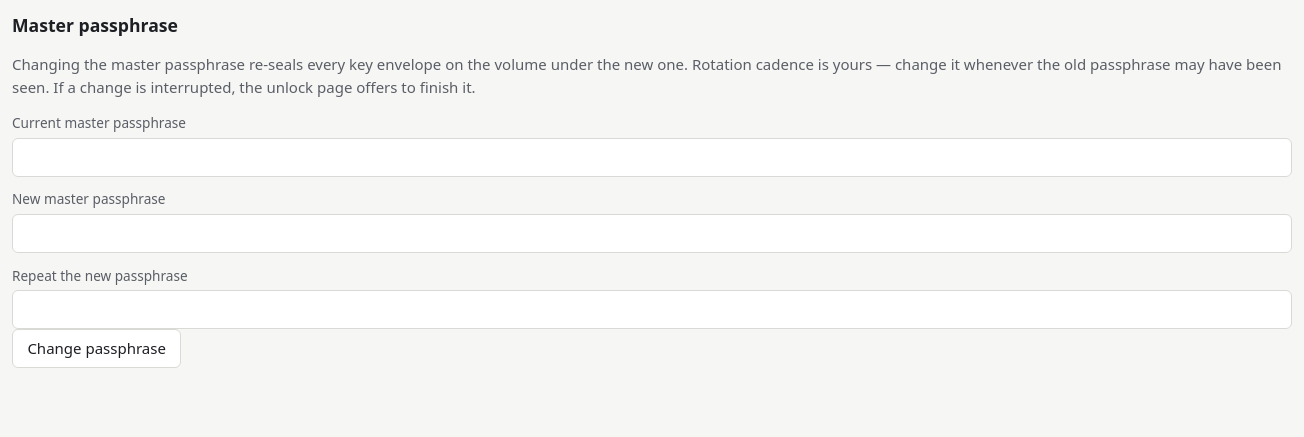
Scenario: MasterPassphrase › refuses a mismatched repeat before any request leaves
In the password field labelled "Current master passphrase": coordinates (652, 157) [12,138,1292,177], type "the-current"
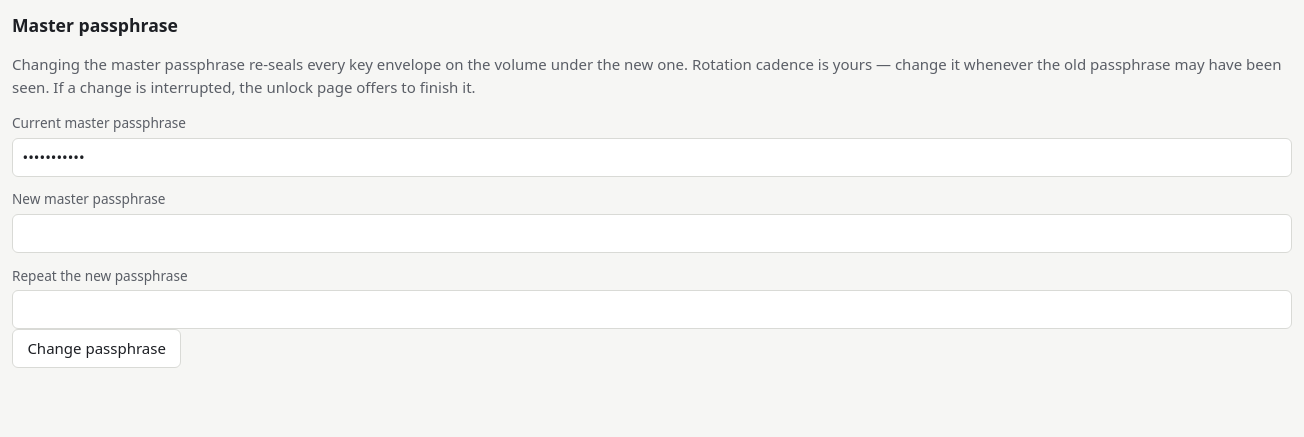
In the password field labelled "New master passphrase": coordinates (652, 233) [12,214,1292,253], type "the-next"
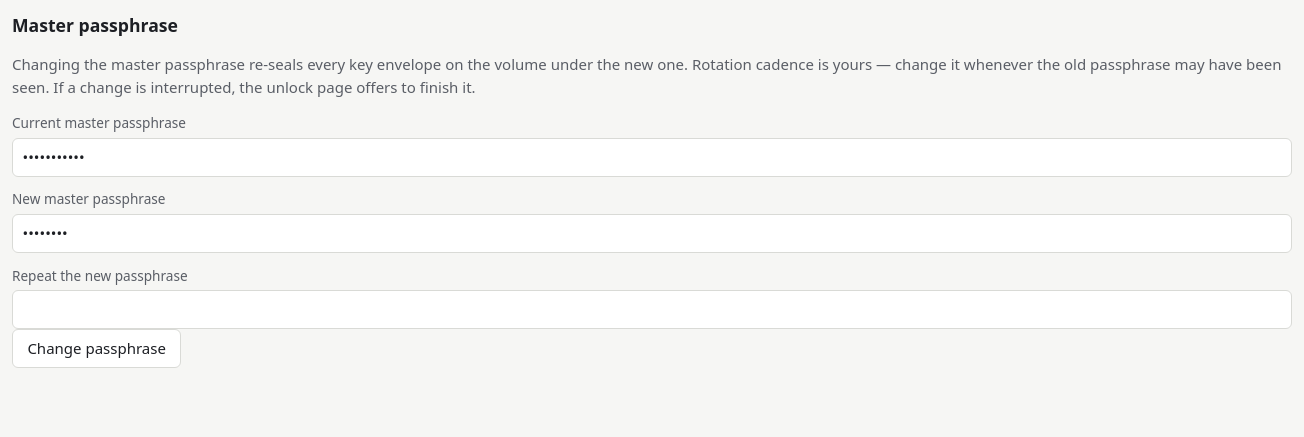
In the password field labelled "Repeat the new passphrase": coordinates (652, 309) [12,290,1292,329], type "a-different-repeat"
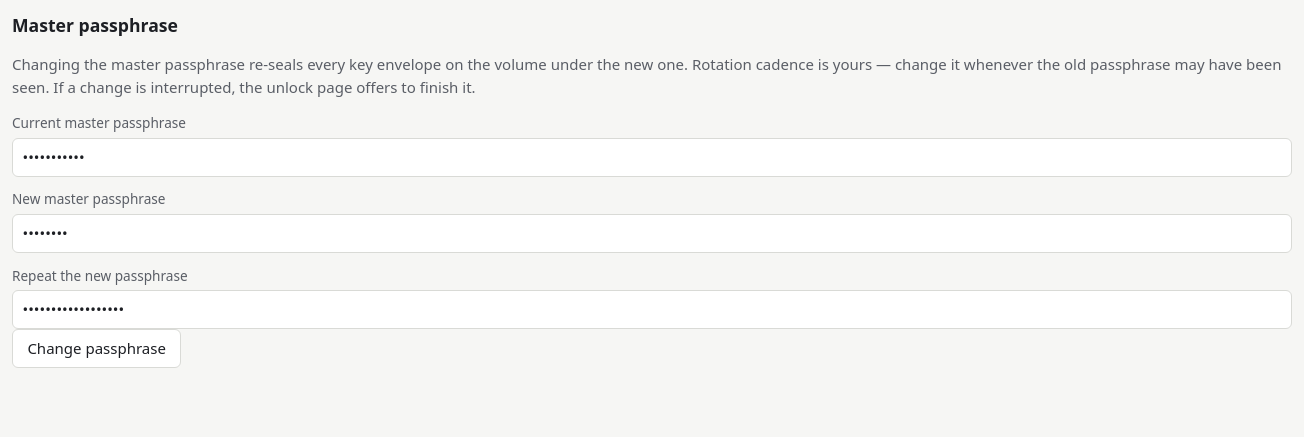
Click the button "Change passphrase": coordinates (97, 348) [12,329,181,368]
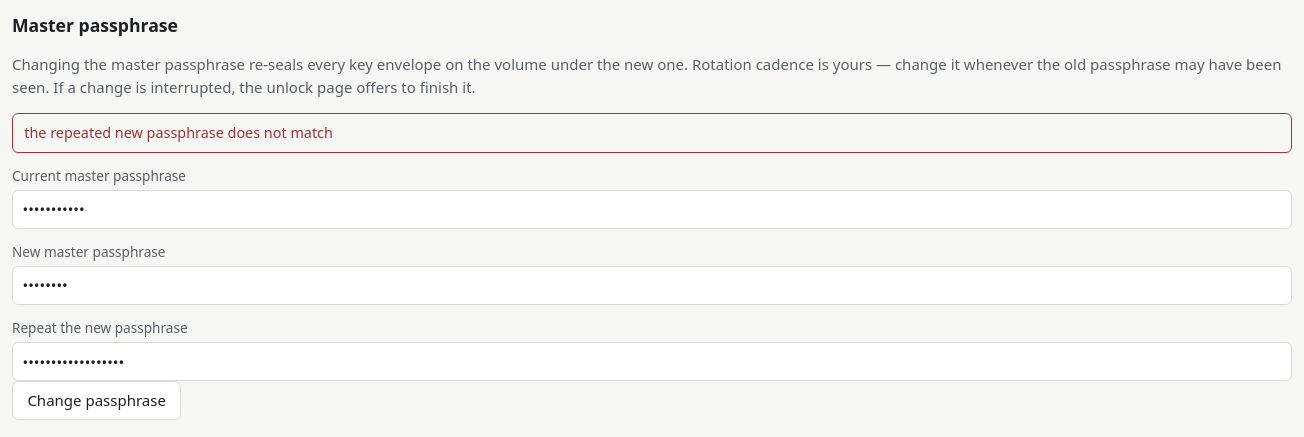
Check: the text "the repeated new passphrase does not match" is shown, box [12,113,1292,153]
